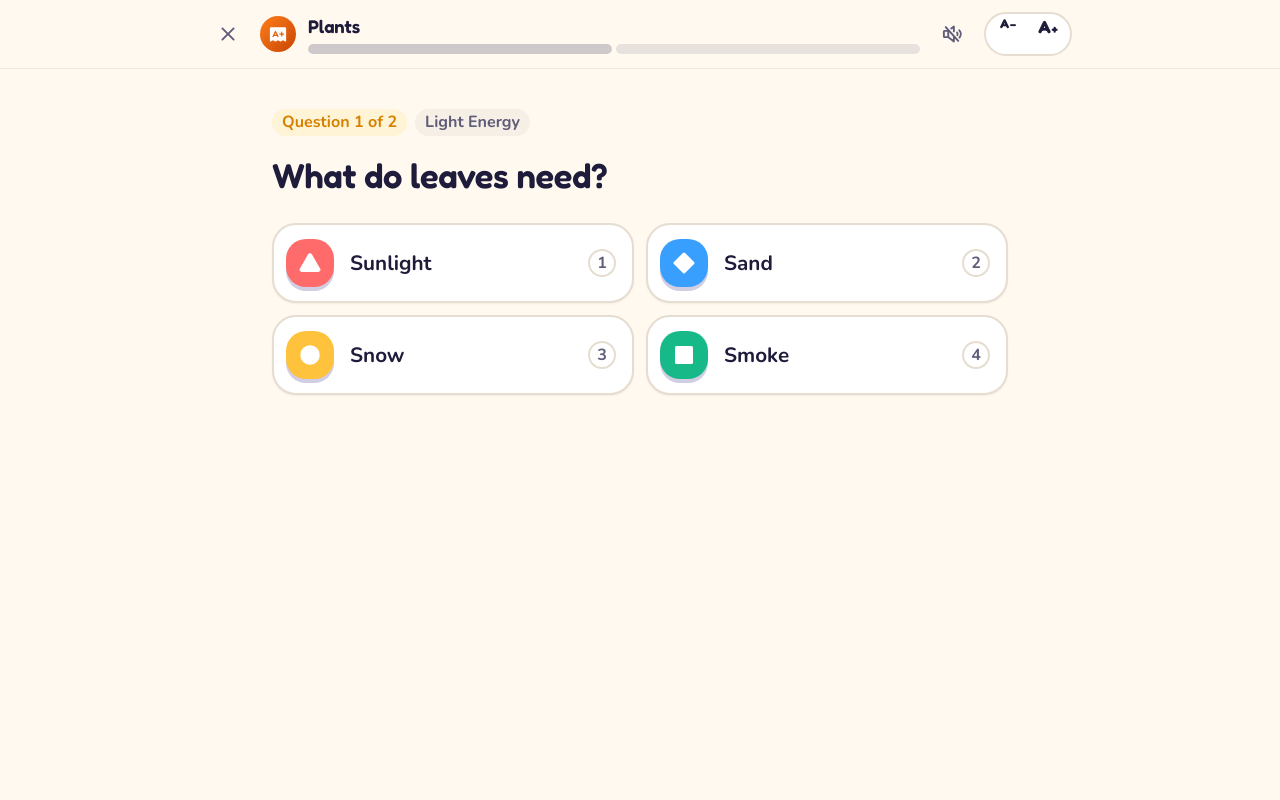
Test: QuizPlayer › says right away whether an answer was right, and why
Click the button "Sunlight 1": (310,263) top-left (272, 223), bottom-right (634, 303)
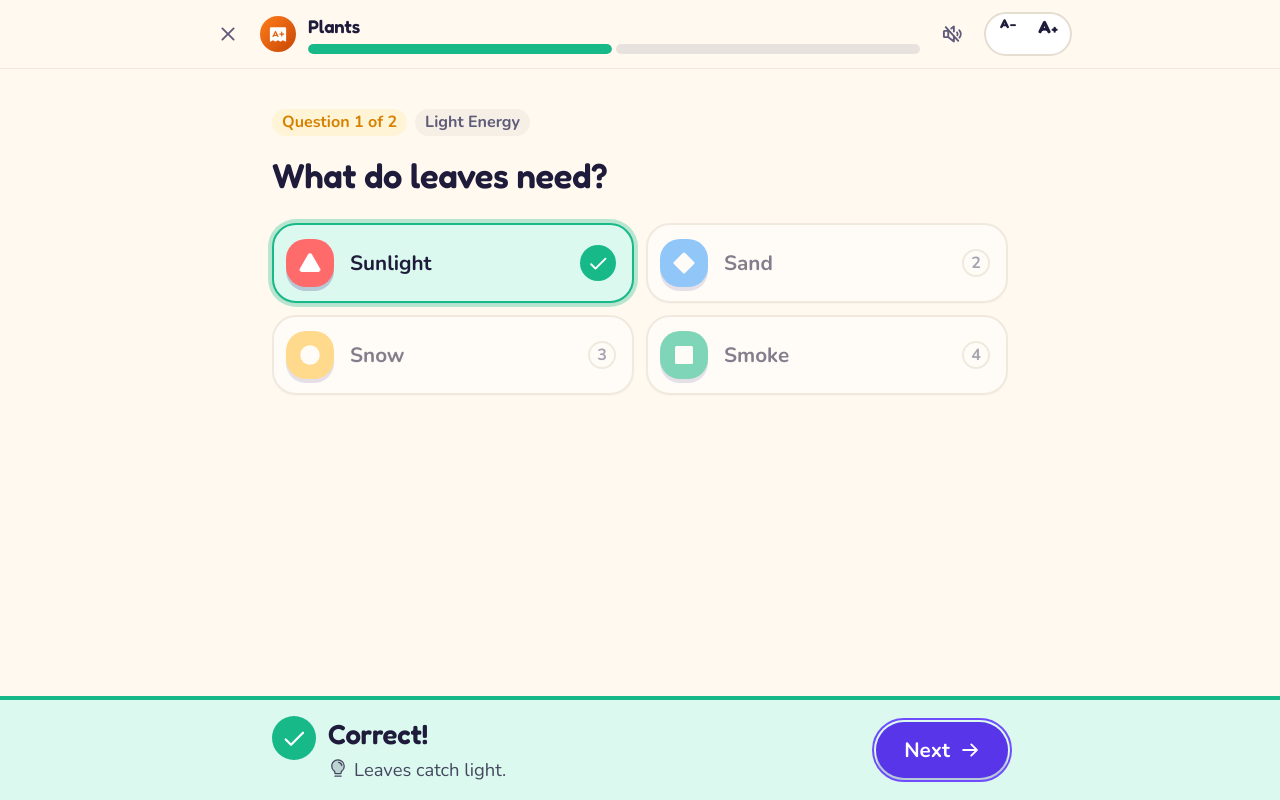
expect the text "Correct!" is shown: met, box top-left (328, 717), bottom-right (428, 751)
expect the text "Leaves catch light." is shown: met, box top-left (328, 756), bottom-right (506, 784)
